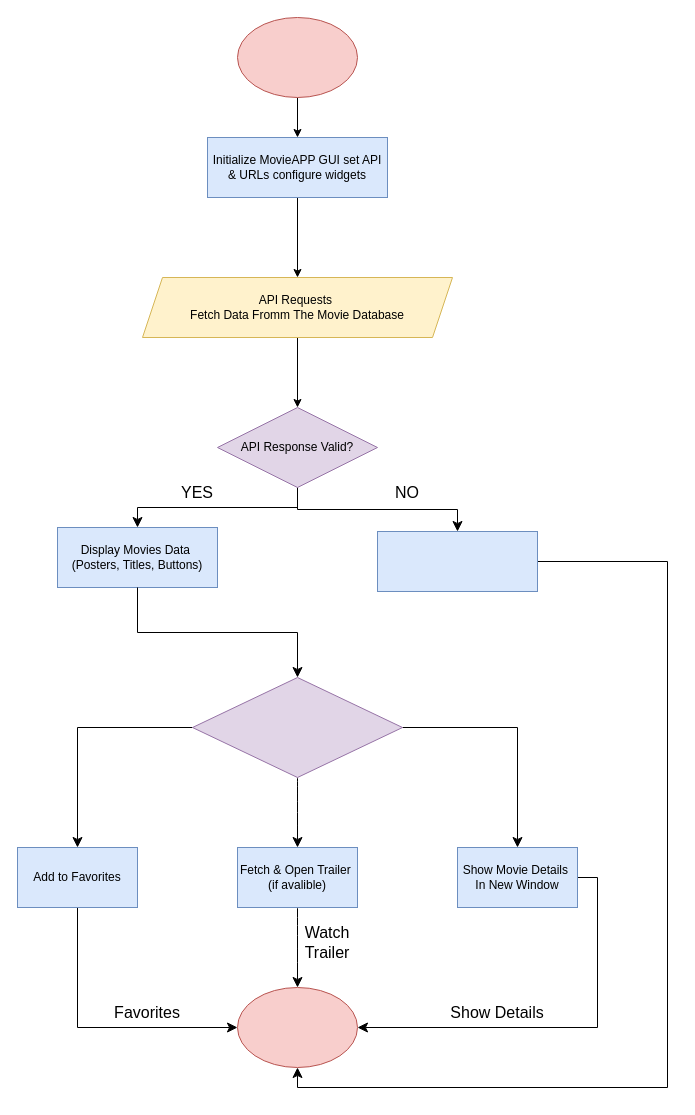
The diagram is 695 pixels wide and 1115 high, and some of its shapes have lost their labels. Each missing label, with the box of its shape:
Button Action? (e.g,, Favorites, Details): (192, 676, 402, 778)
END Application: (236, 986, 358, 1068)
Show Error Message API Fail to Fetch: (376, 530, 538, 592)
Start: (236, 16, 358, 98)
